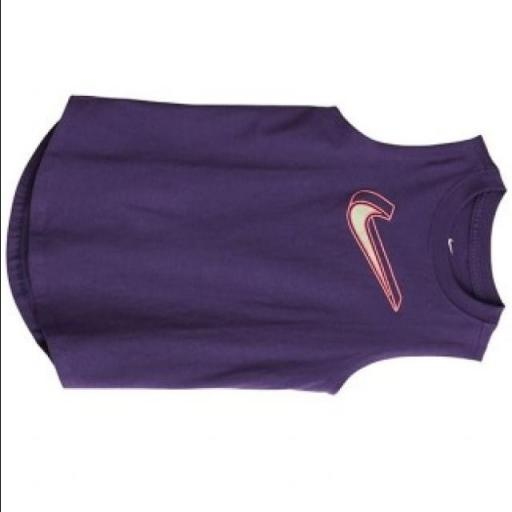Nike: (336, 180, 408, 319)
